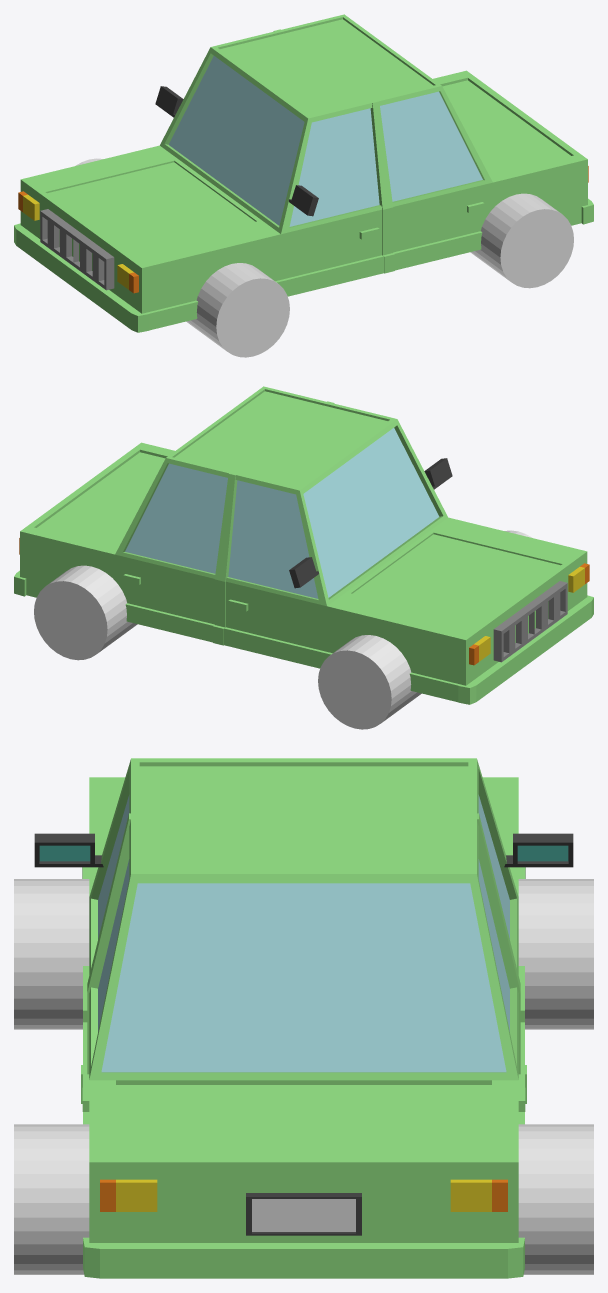
Rendered from sedan_verde1.fbx.
3 views of the same model, one above another, from view 1: azimuth 30°, elevation 25°; view 2: azimuth 150°, elevation 25°; view 3: azimuth 270°, elevation 25° (orthographic). The views are drawn at different scales.
Parts seen in each view (by area): view 1: Cube.002, Cylinder, Cylinder.001, Cylinder.002; view 2: Cube.002, Cylinder, Cylinder.001, Cylinder.002; view 3: Cube.002, Cylinder.001, Cylinder, Cube.003, Cylinder.002.
Part boxes in pixels (<box>): Cube.002: <box>14,14,593,332</box>; Cylinder: <box>75,158,289,357</box>; Cylinder.001: <box>470,193,573,288</box>; Cylinder.002: <box>155,86,318,216</box>; Cube.002: <box>14,386,593,704</box>; Cylinder: <box>318,530,532,729</box>; Cylinder.001: <box>34,565,137,660</box>; Cylinder.002: <box>289,458,452,588</box>; Cube.002: <box>81,758,526,1278</box>; Cylinder.001: <box>14,1124,593,1274</box>; Cylinder: <box>14,879,593,1029</box>; Cube.003: <box>246,1193,361,1235</box>; Cylinder.002: <box>34,833,573,867</box>.
Bounding box in the file's own units: 770 × 307 × 474.
